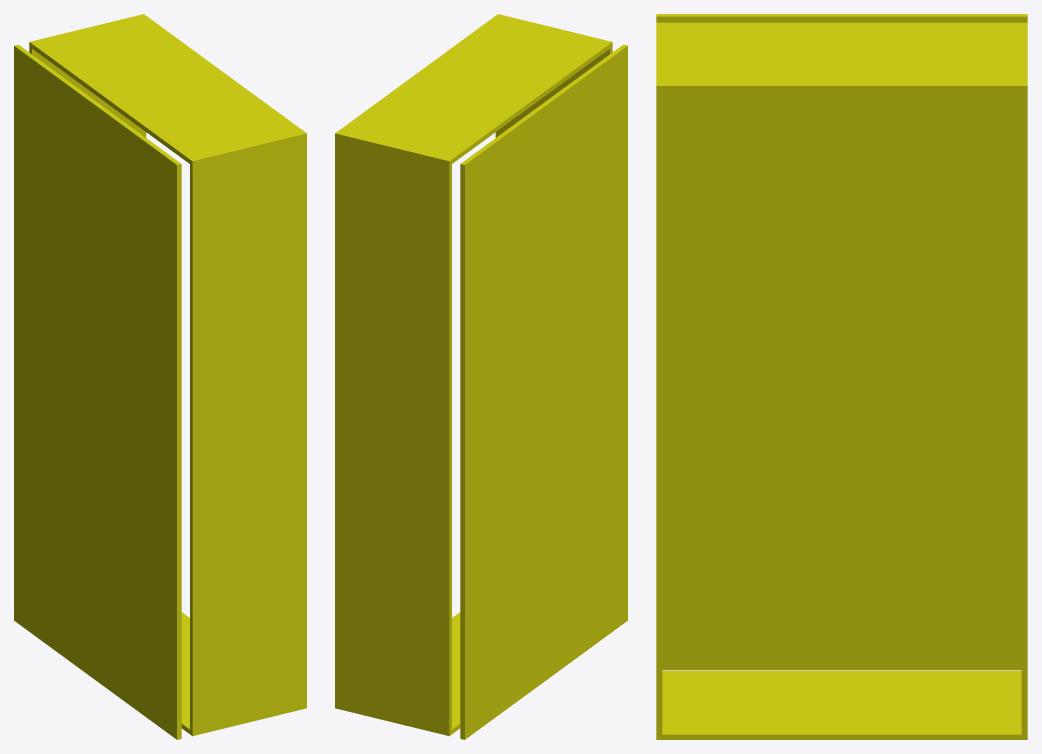
Rendered from Expose_to_sunlight_trumna.obj.
The picture shows the model from 3 angles, left to right: view 1: azimuth 30°, elevation 25°; view 2: azimuth 150°, elevation 25°; view 3: azimuth 270°, elevation 25°; orthographic projection. The views are drawn at different scales.
Parts seen in each view (by area): view 1: Bryła52, Bryła53, Bryła56, Bryła54, Bryła55; view 2: Bryła52, Bryła54, Bryła56, Bryła53, Bryła55; view 3: Bryła52, Bryła56, Bryła55, Bryła53, Bryła54.
Part boxes in pixels (left/top/right/bottom): Bryła52: left=14, top=44, right=181, bottom=739; Bryła53: left=190, top=131, right=306, bottom=736; Bryła56: left=32, top=16, right=303, bottom=163; Bryła54: left=29, top=14, right=146, bottom=137; Bryła55: left=181, top=612, right=189, bottom=733; Bryła52: left=460, top=44, right=627, bottom=739; Bryła54: left=335, top=131, right=451, bottom=736; Bryła56: left=338, top=16, right=609, bottom=163; Bryła53: left=495, top=14, right=612, bottom=137; Bryła55: left=452, top=612, right=460, bottom=733; Bryła52: left=656, top=14, right=1027, bottom=670; Bryła56: left=662, top=22, right=1021, bottom=91; Bryła55: left=662, top=671, right=1021, bottom=739; Bryła53: left=656, top=22, right=662, bottom=739; Bryła54: left=1021, top=22, right=1027, bottom=739.
Bounding box in the file's own units: 144 × 610 × 314.
